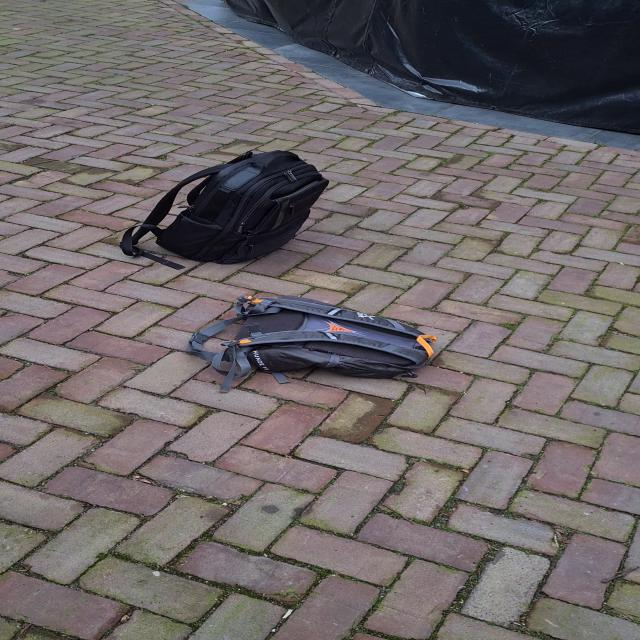backpack: (146, 148, 332, 272), (182, 296, 435, 386)
